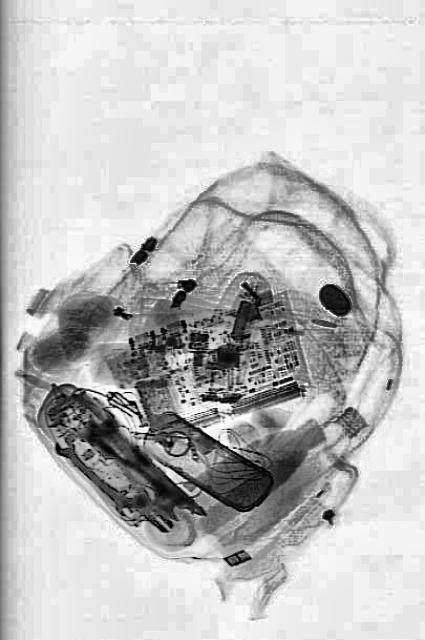Wrench: (86, 399, 194, 518), (51, 431, 135, 521)
